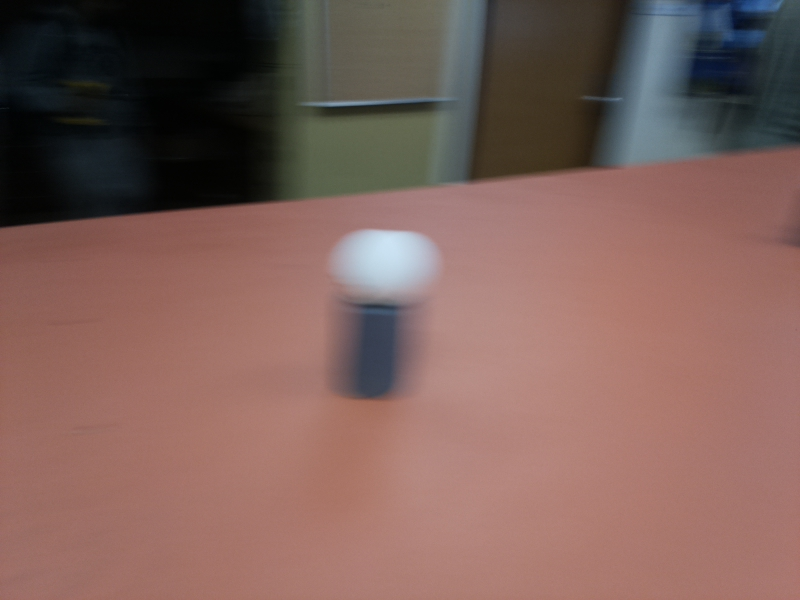obstacle: (331, 228, 428, 403)
